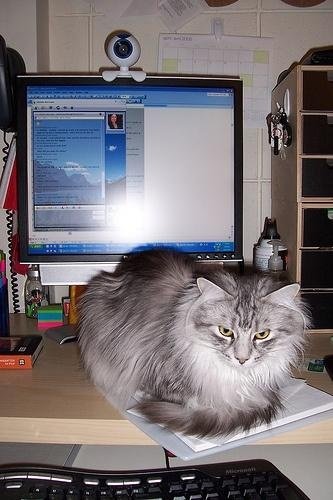cat: (75, 247, 314, 440)
tvmonitor: (15, 73, 248, 347)
